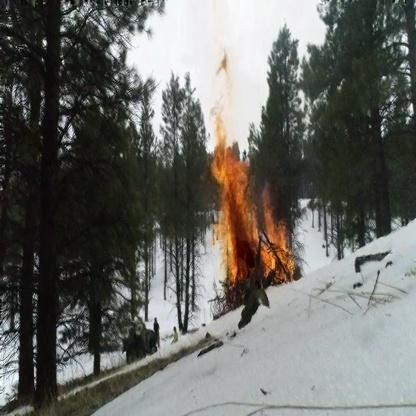Fire: (207, 49, 296, 290)
